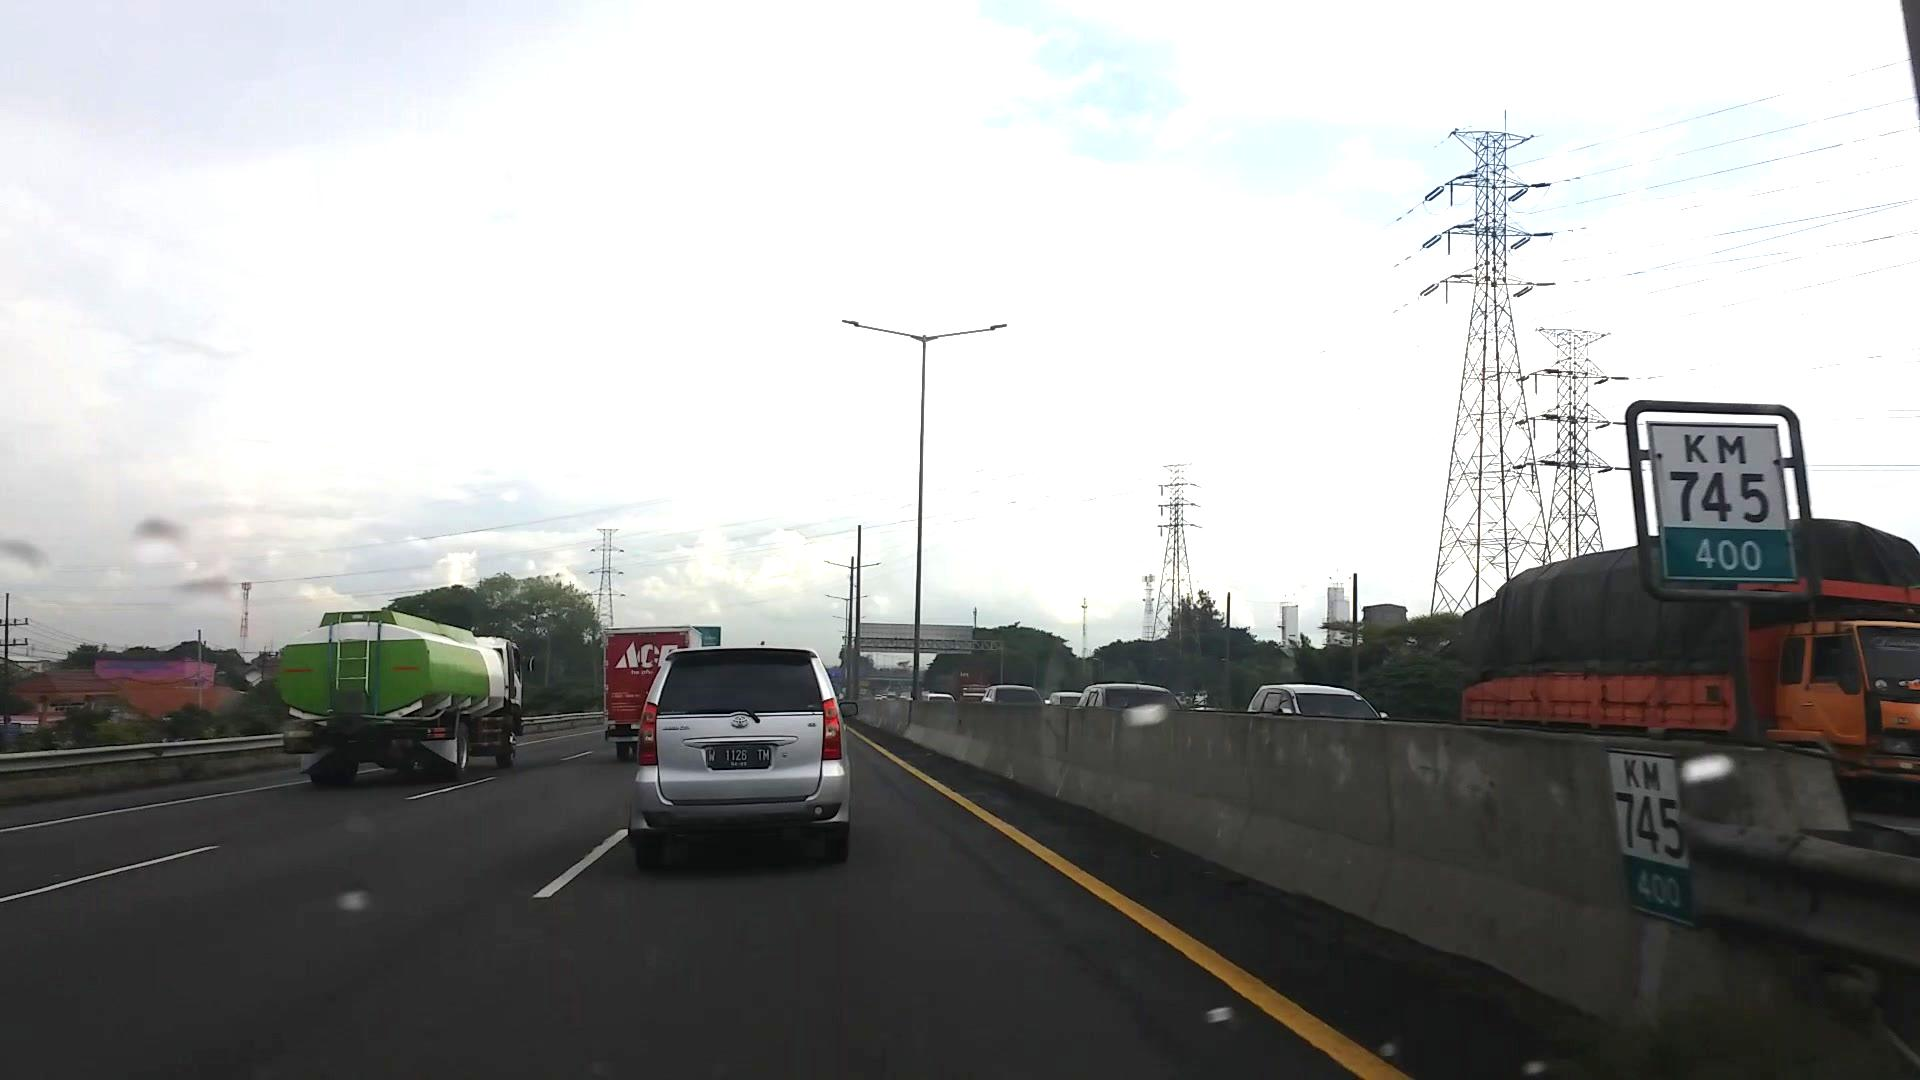plate_positive: (705, 745, 771, 770)
